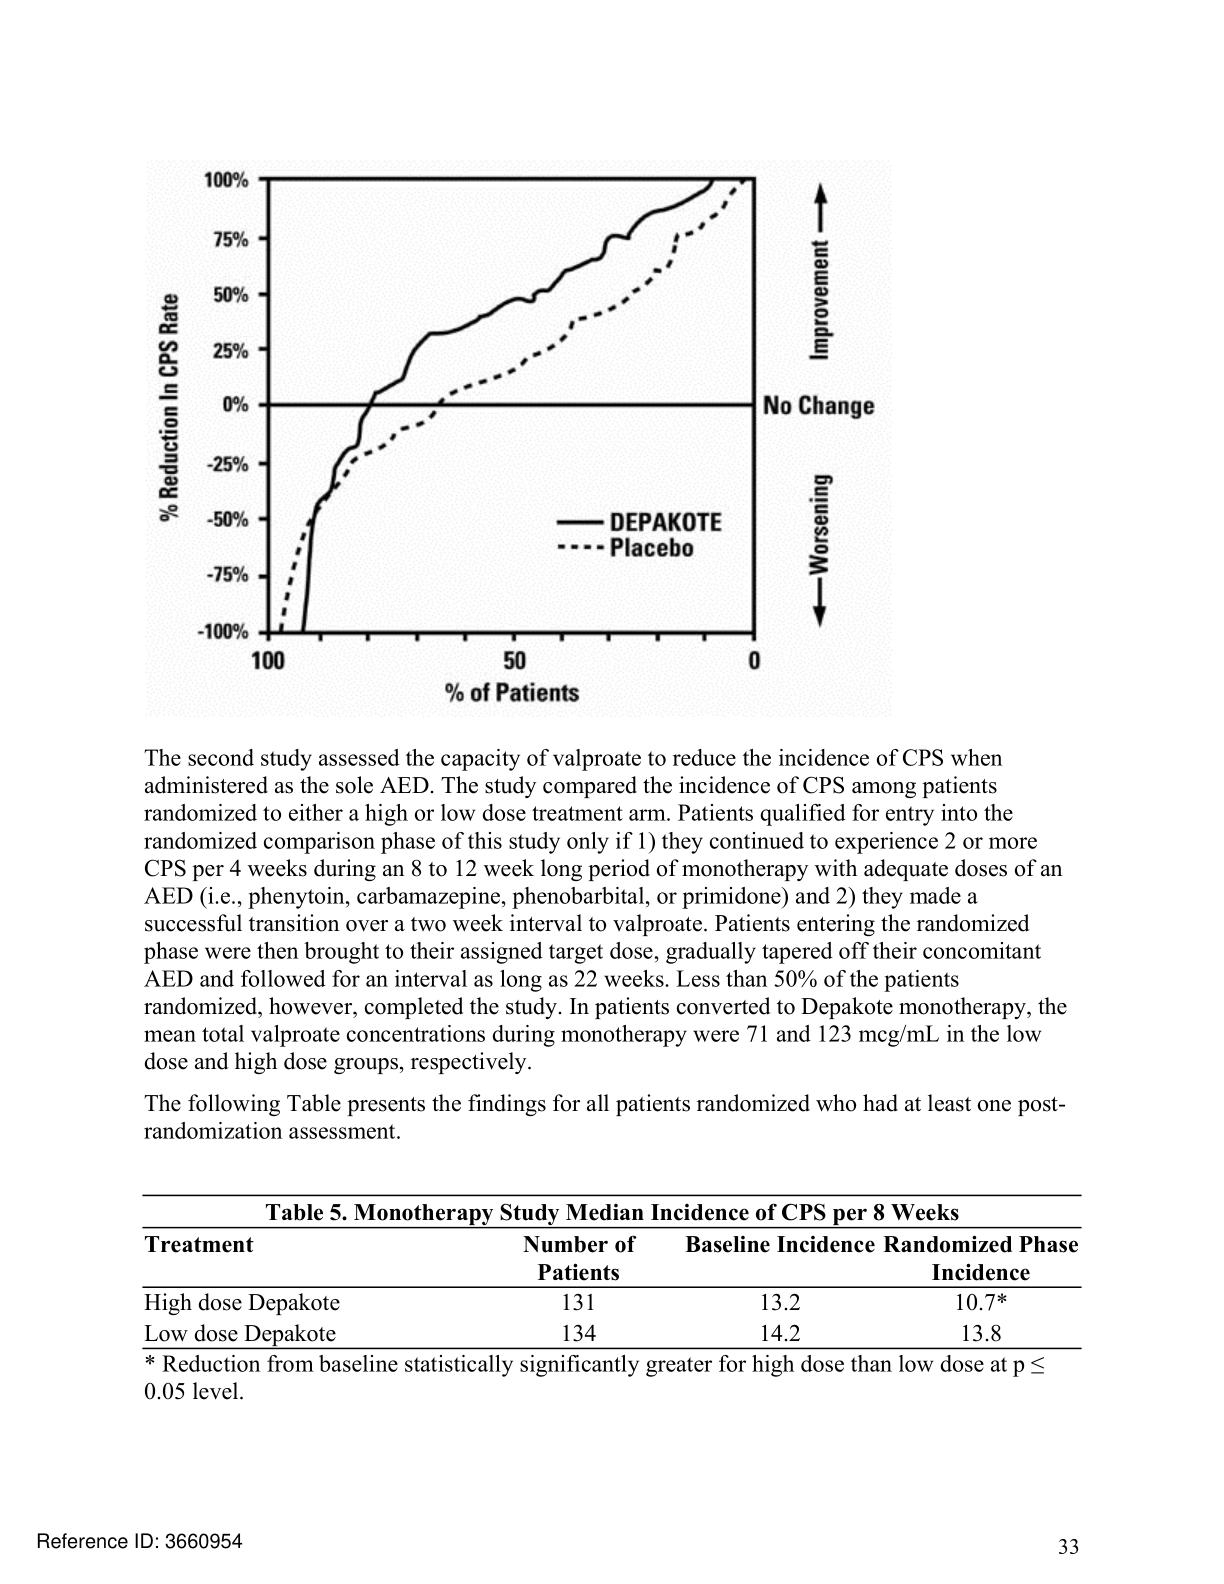partial_lined: (141, 1193, 1084, 1350)
